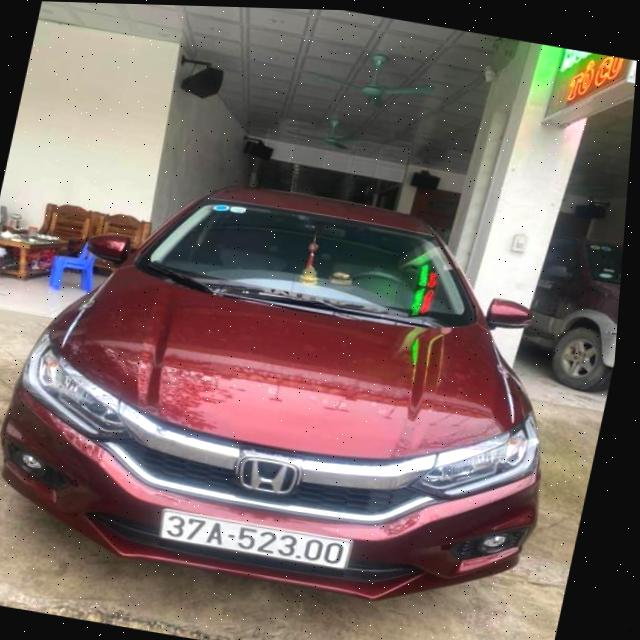car: (0, 151, 598, 635), (510, 62, 637, 429)
plate: (149, 493, 367, 582)
